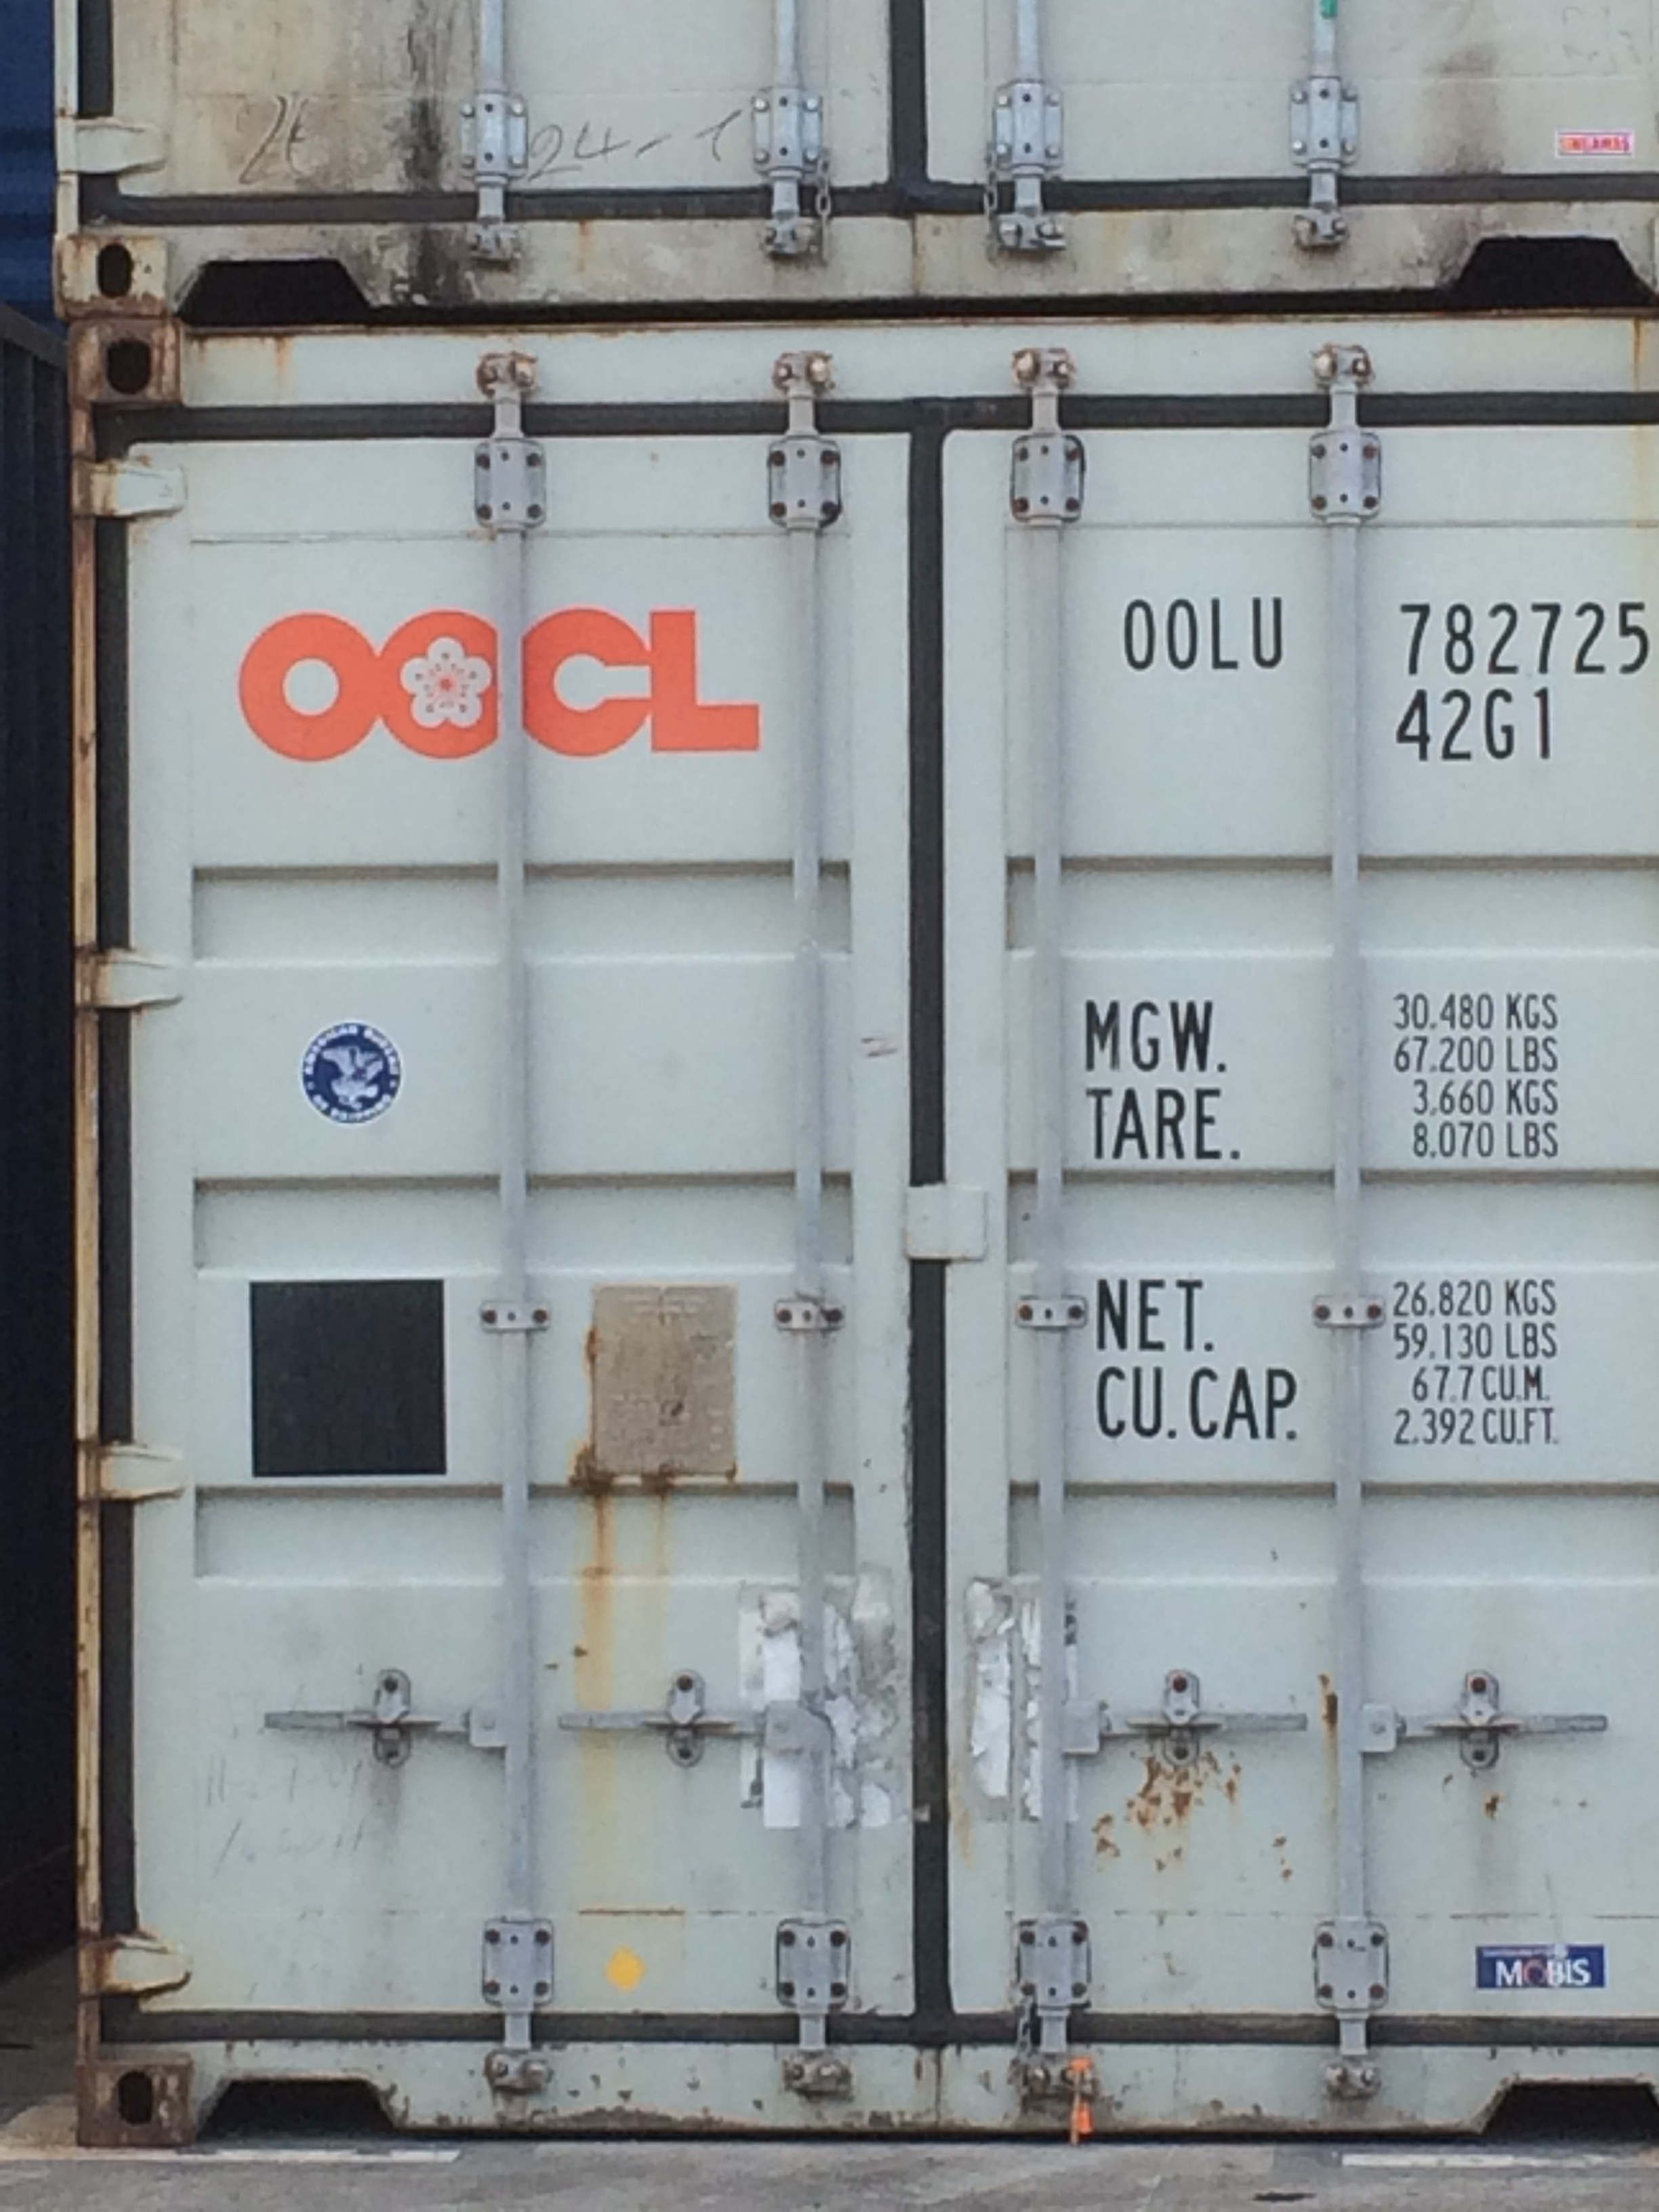container_door: (64, 320, 1659, 2153)
